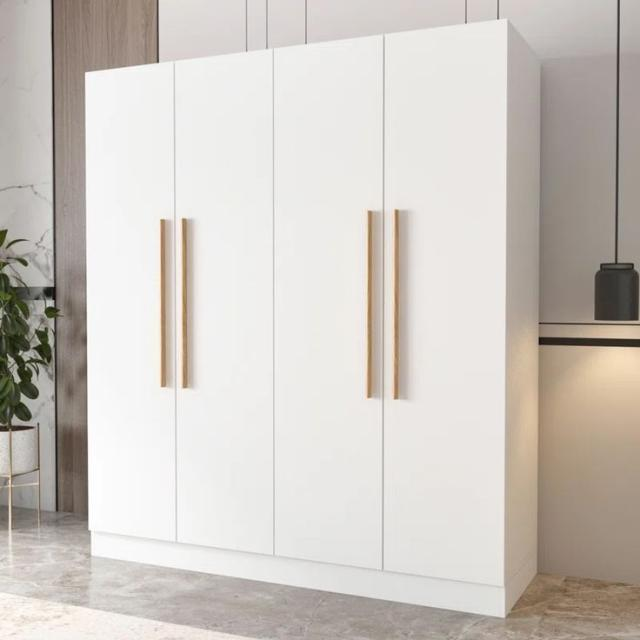door: (274, 20, 508, 585), (84, 47, 280, 550)
